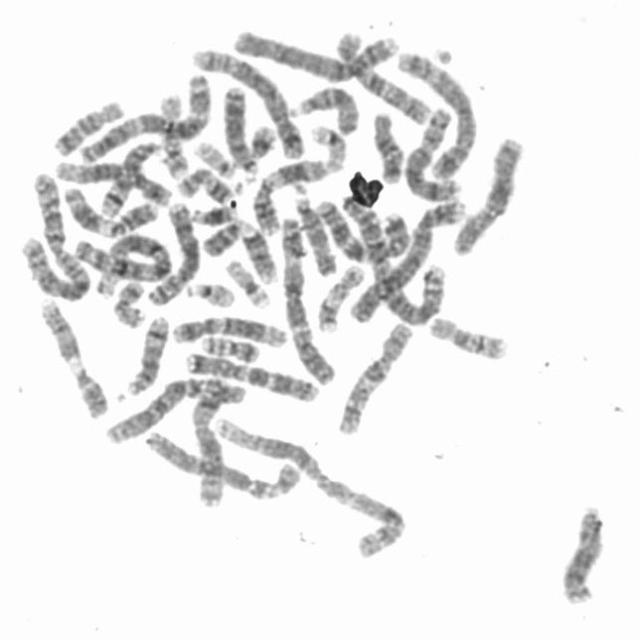A1: (209, 410, 411, 560), (68, 228, 176, 300)
A2: (341, 195, 450, 329), (18, 166, 93, 303)
A3: (75, 66, 216, 163), (275, 208, 342, 386)
B4: (345, 193, 467, 326), (228, 19, 406, 82)
B5: (187, 40, 309, 161), (393, 42, 482, 181)
C10: (330, 23, 435, 125), (333, 314, 417, 437)
C11: (248, 151, 333, 235), (58, 178, 163, 238)
C12: (50, 153, 176, 206), (167, 308, 291, 349)
C6: (139, 422, 305, 500), (100, 371, 248, 446)
C7: (180, 346, 323, 403), (316, 192, 415, 266)
C8: (143, 195, 205, 307), (400, 102, 465, 203)
C9: (34, 290, 112, 420), (198, 212, 282, 286)
D13: (558, 498, 609, 606), (218, 78, 262, 178)
D14: (96, 134, 168, 218), (120, 308, 174, 398)
D15: (288, 184, 340, 278), (290, 78, 365, 137)
E16: (424, 307, 513, 362), (153, 88, 193, 178)
E17: (312, 258, 369, 334), (176, 165, 234, 207)
E18: (48, 92, 128, 157), (368, 104, 408, 184)
F19: (221, 252, 275, 310), (305, 117, 352, 173)
F20: (197, 328, 263, 365), (108, 274, 149, 329)
G21: (244, 116, 282, 161), (186, 197, 239, 226)
G22: (190, 134, 240, 178), (182, 275, 238, 309)
X: (448, 128, 529, 258), (186, 371, 238, 510)
